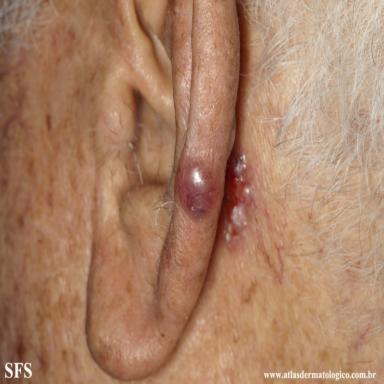basal-cell-carcinoma: (174, 146, 220, 223), (223, 155, 253, 248)
